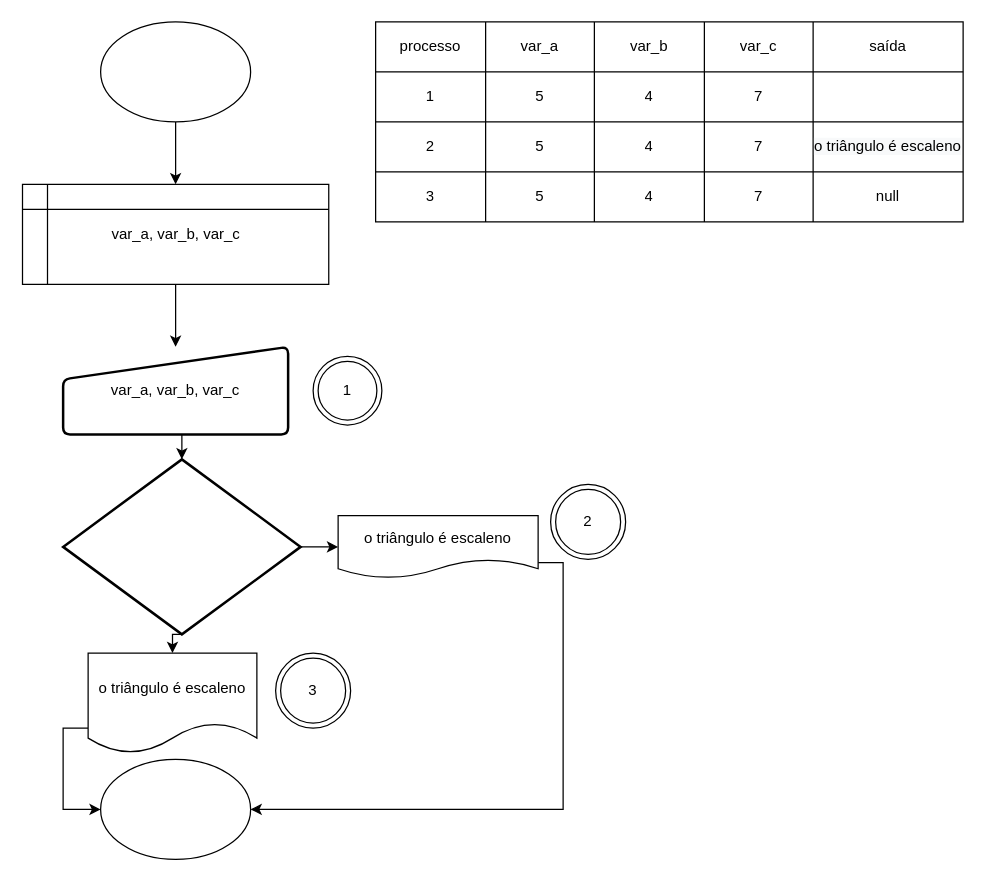
This 985x881 diagram has some shape labels left out. Here are the shapes that lost their labels. From the top down, the centre of each, then its label:
At (x=175, y=71): "início".
At (x=181, y=546): "( var_a != var_b ) || (var_a != var_c) || (var_b != var_c )".
At (x=175, y=808): "fim".
